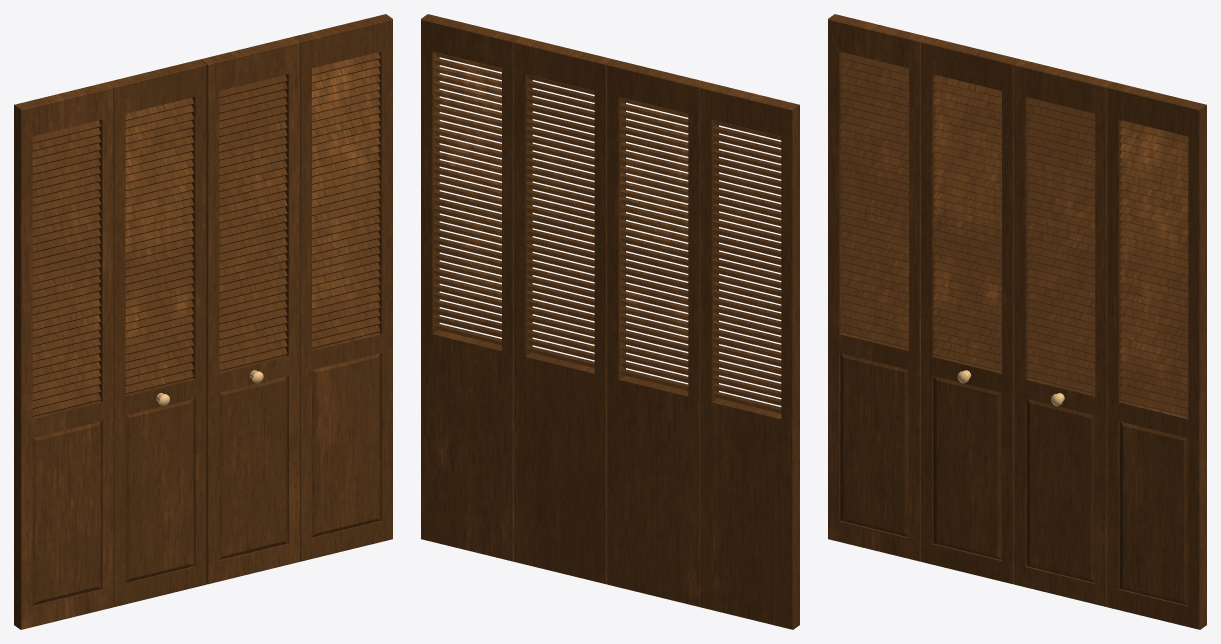
The model's file is wood_closet_doors_closed.glb.
3 views of the same model, side by side, from view 1: azimuth 30°, elevation 25°; view 2: azimuth 150°, elevation 25°; view 3: azimuth 330°, elevation 25° (orthographic).
Parts seen in each view (by area): view 1: Closet_C; view 2: Closet_C; view 3: Closet_C.
Part boxes in pixels (bbox=[...]): Closet_C: bbox=[14, 14, 392, 629]; Closet_C: bbox=[421, 14, 799, 629]; Closet_C: bbox=[828, 14, 1206, 629].
Bounding box in the file's own units: 0.015 × 0.02 × 0.000896.
1 material, 1 textured.
